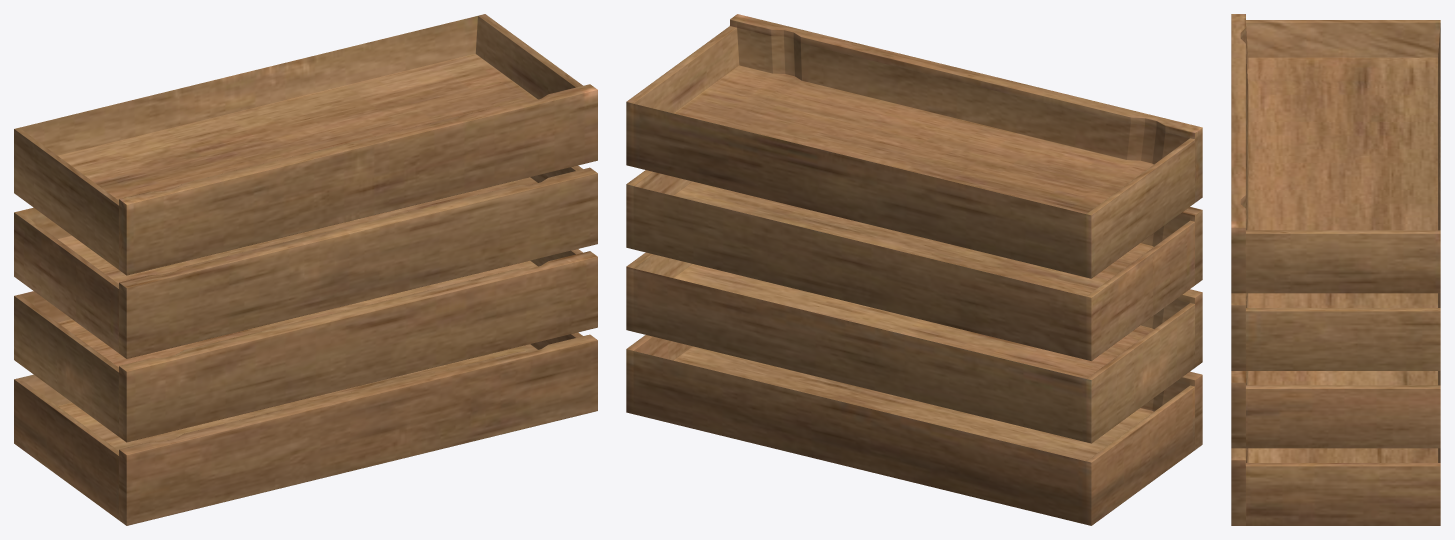
Rendered from drawer_cabinet_1k.glb.
3 views of the same model, side by side, from view 1: azimuth 30°, elevation 25°; view 2: azimuth 150°, elevation 25°; view 3: azimuth 270°, elevation 25° (orthographic). The views are drawn at different scales.
Visible parts, largest first — view 1: drawer_cabinet_drawer_01, drawer_cabinet_drawer_04, drawer_cabinet_drawer_02, drawer_cabinet_drawer_03; view 2: drawer_cabinet_drawer_01, drawer_cabinet_drawer_03, drawer_cabinet_drawer_04, drawer_cabinet_drawer_02; view 3: drawer_cabinet_drawer_01, drawer_cabinet_drawer_02, drawer_cabinet_drawer_03, drawer_cabinet_drawer_04.
Boxes of the visible parts, x1,y1,x2,y2 form: drawer_cabinet_drawer_01: (14, 14, 597, 275); drawer_cabinet_drawer_04: (14, 332, 597, 525); drawer_cabinet_drawer_02: (14, 165, 597, 358); drawer_cabinet_drawer_03: (14, 249, 597, 442); drawer_cabinet_drawer_01: (626, 14, 1202, 278); drawer_cabinet_drawer_03: (626, 252, 1202, 443); drawer_cabinet_drawer_04: (626, 335, 1202, 525); drawer_cabinet_drawer_02: (626, 170, 1202, 360); drawer_cabinet_drawer_01: (1231, 14, 1440, 293); drawer_cabinet_drawer_02: (1231, 293, 1440, 370); drawer_cabinet_drawer_03: (1231, 371, 1440, 448); drawer_cabinet_drawer_04: (1231, 448, 1440, 525).
Size of the model in its own units: 1.03 by 0.6737 by 0.428.
1 material, 1 textured.
